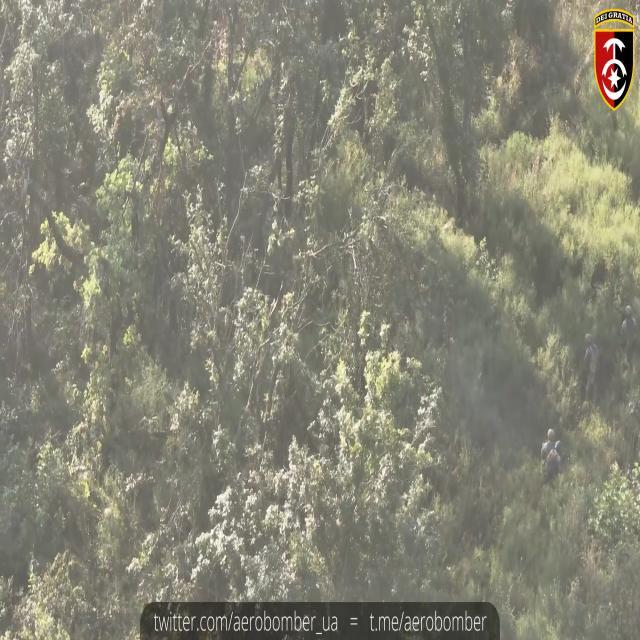MIL_Pax: (541, 429, 562, 481), (585, 333, 599, 402), (621, 304, 638, 347), (541, 429, 559, 460)
